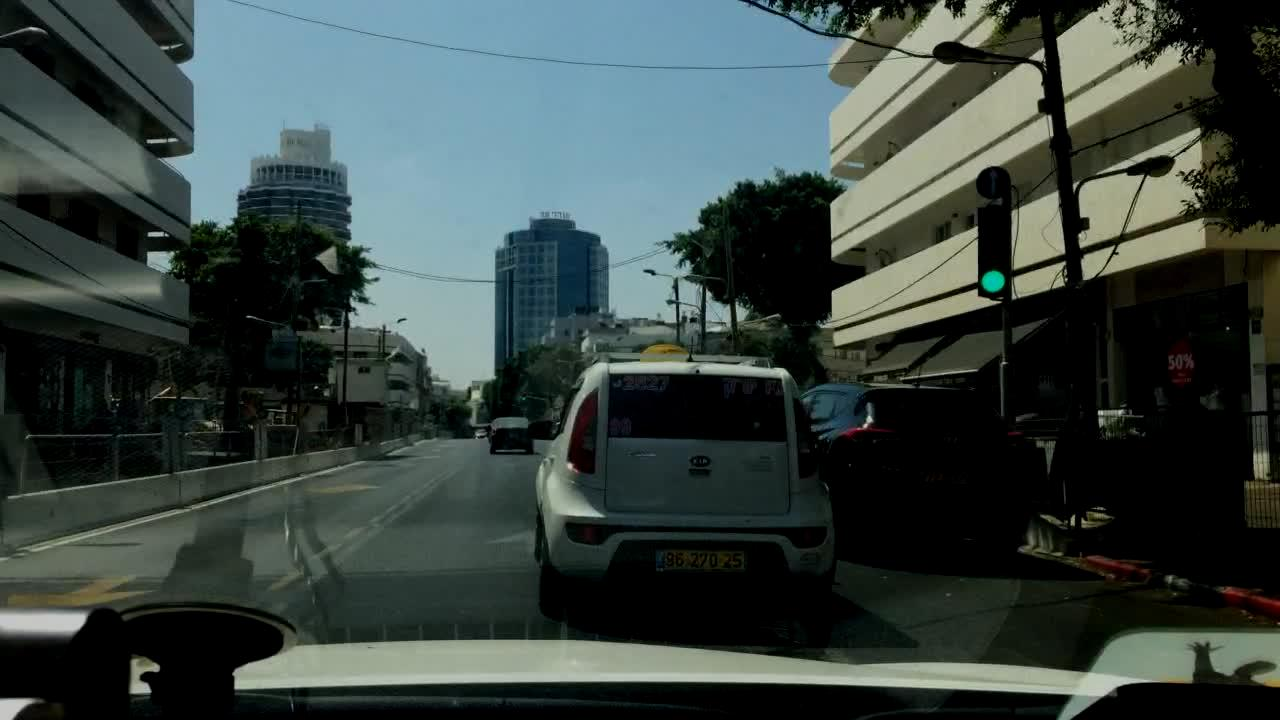kia: (685, 450, 717, 470)
